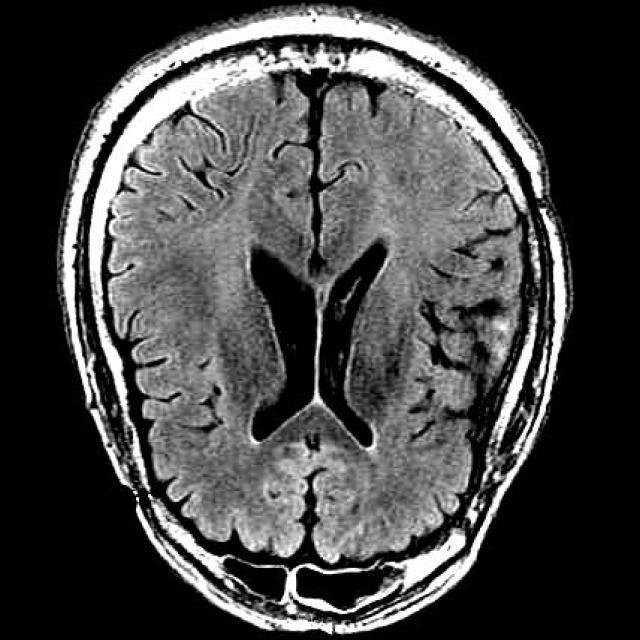notumor: (60, 9, 570, 634)
